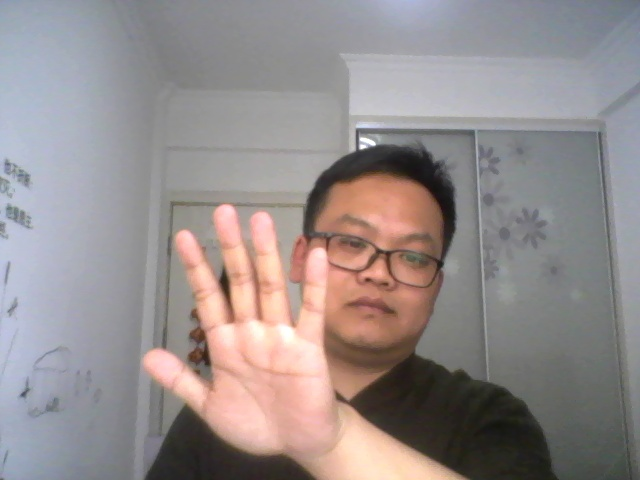Hello: (131, 198, 347, 463)
